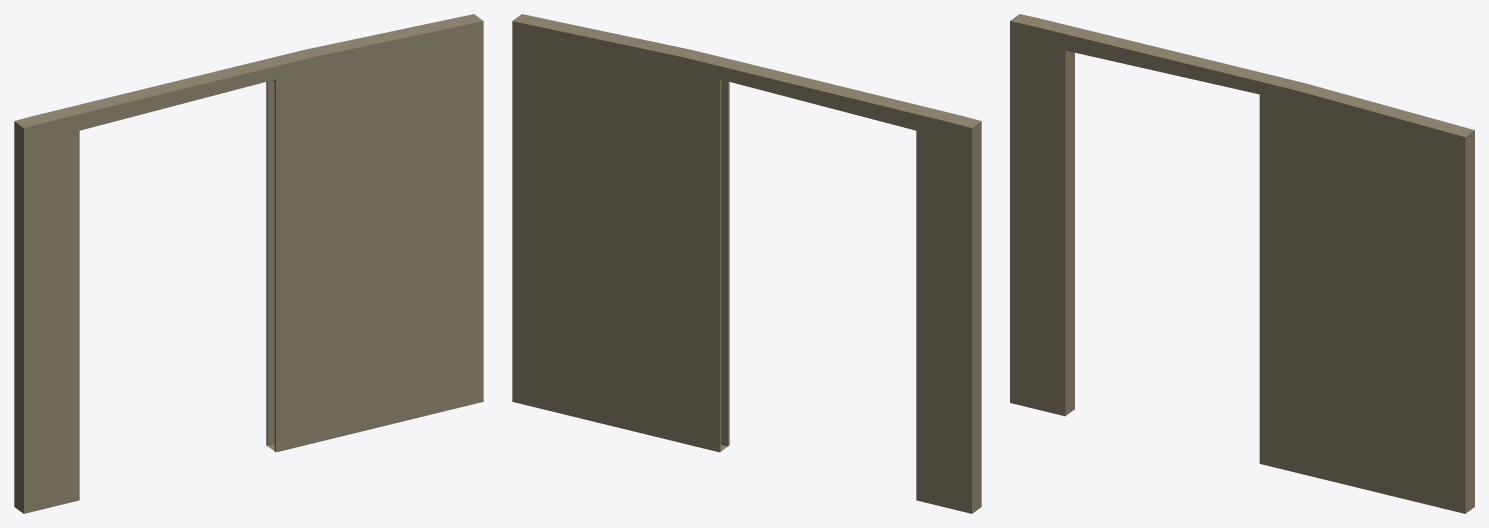
The model's file is ThinDoorFrame.glb.
3 views of the same model, side by side, from view 1: azimuth 30°, elevation 25°; view 2: azimuth 150°, elevation 25°; view 3: azimuth 330°, elevation 25° (orthographic).
Visible parts, largest first — view 1: Frame.012; view 2: Frame.012; view 3: Frame.012.
Part boxes in pixels (bbox=[...]): Frame.012: bbox=[14, 14, 483, 513]; Frame.012: bbox=[512, 14, 981, 513]; Frame.012: bbox=[1010, 14, 1474, 513].
Size of the model in its own units: 2.6 by 2.08 by 0.0951.
